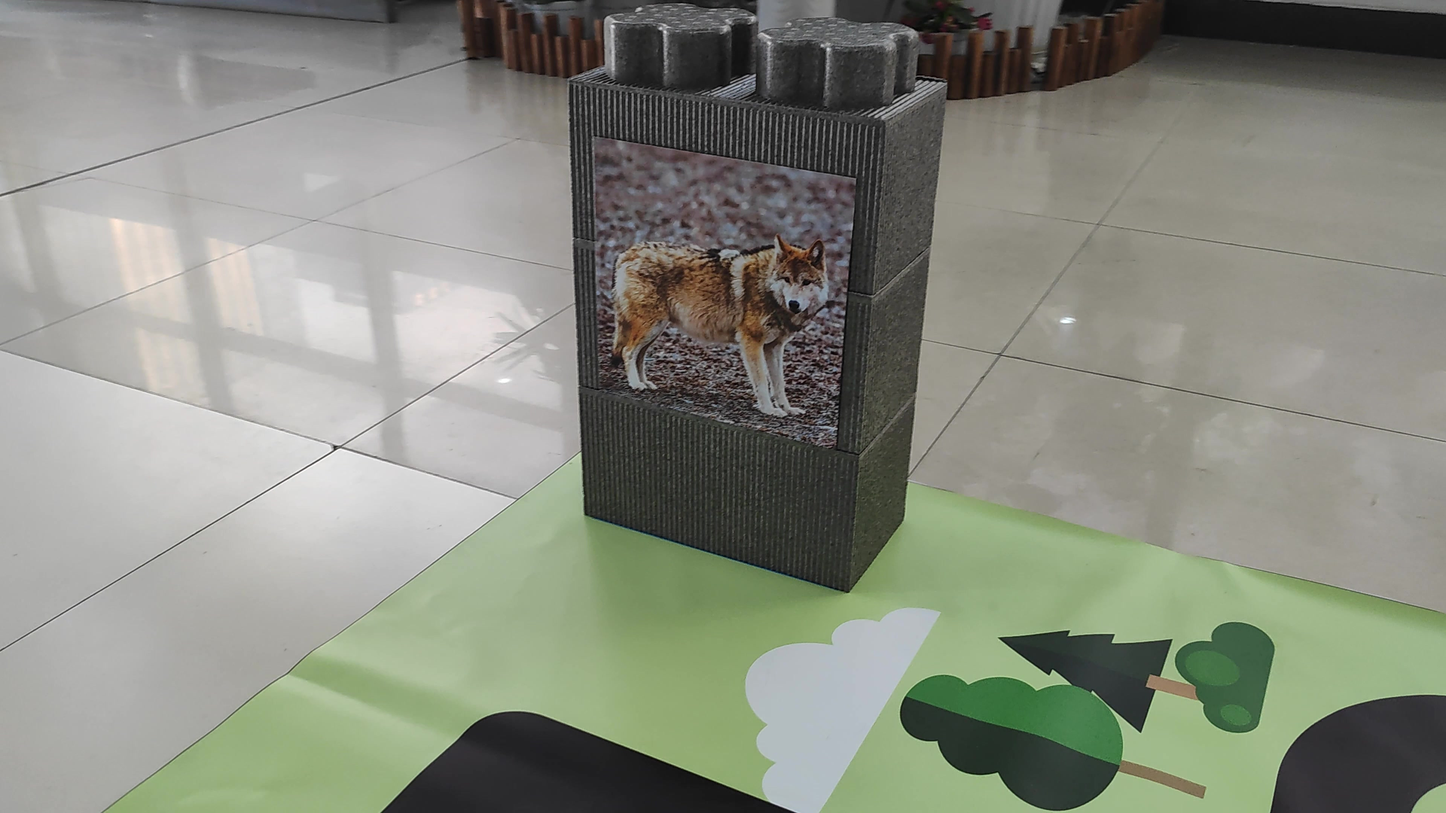wolf: (589, 206, 842, 425)
